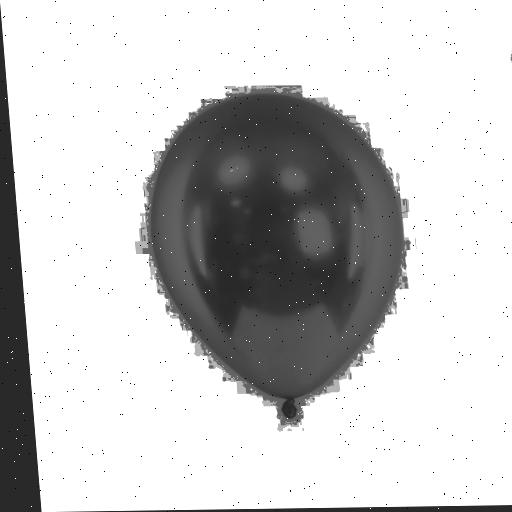balloon: (138, 85, 422, 418)
